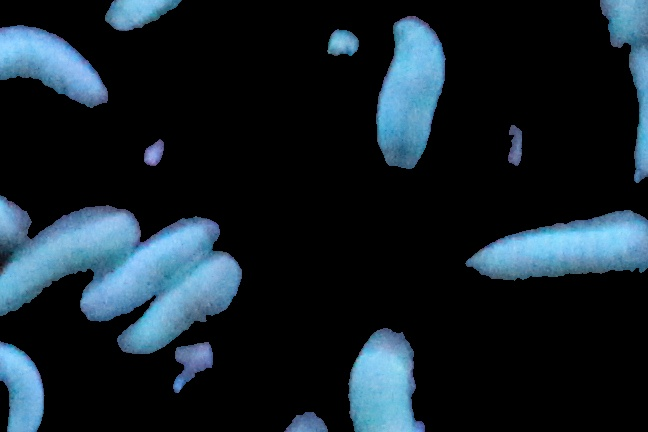larvae: (1, 207, 140, 317), (89, 215, 220, 319), (118, 255, 247, 355), (374, 19, 453, 173), (463, 217, 648, 281), (1, 28, 110, 111), (350, 329, 423, 432), (1, 335, 45, 432)
